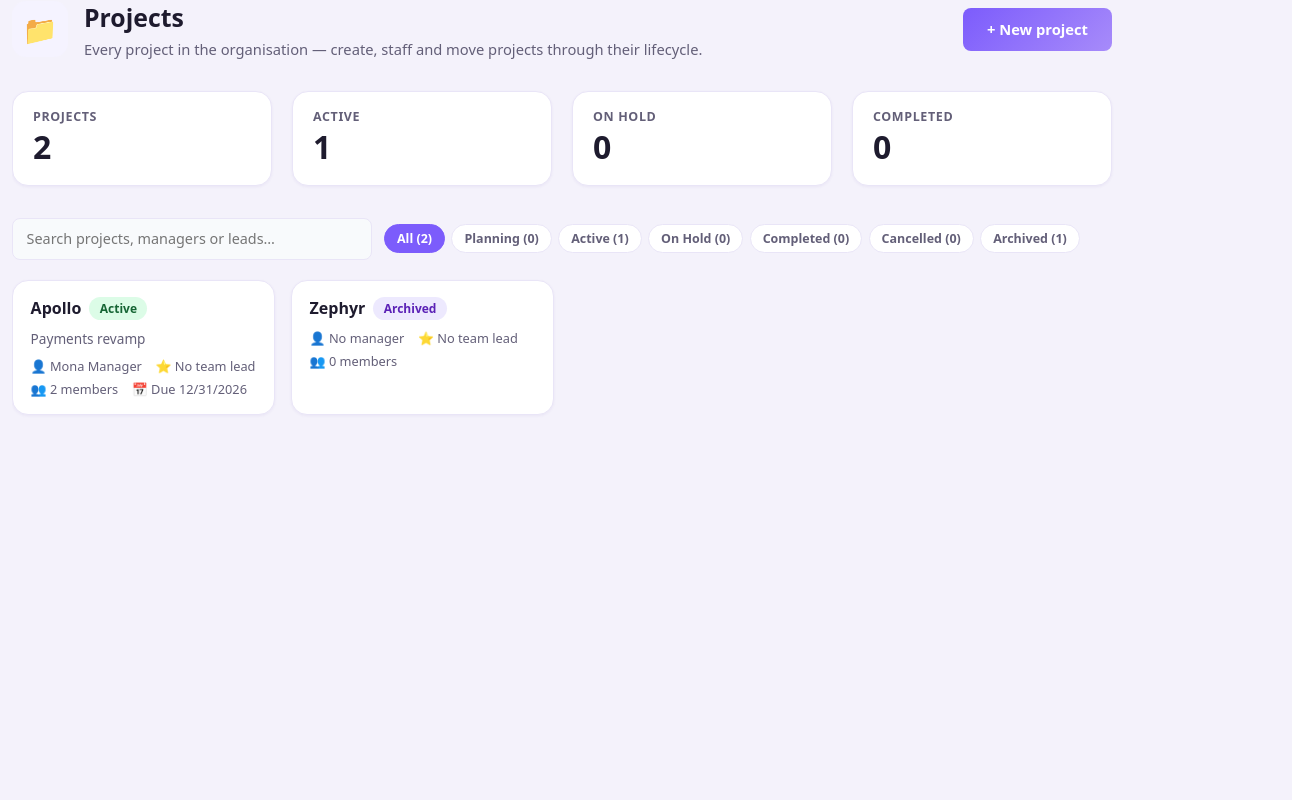
Test: admin sees create, assignment, lifecycle and delete controls
Expected: the button "+ New project" is shown, [963,8,1112,51]
What coordinates should you click on to do the following:
click the button that starts with "Apollo"
I would click on:
 (144, 347)
Its box is [12,280,275,415].
(page scrolled)
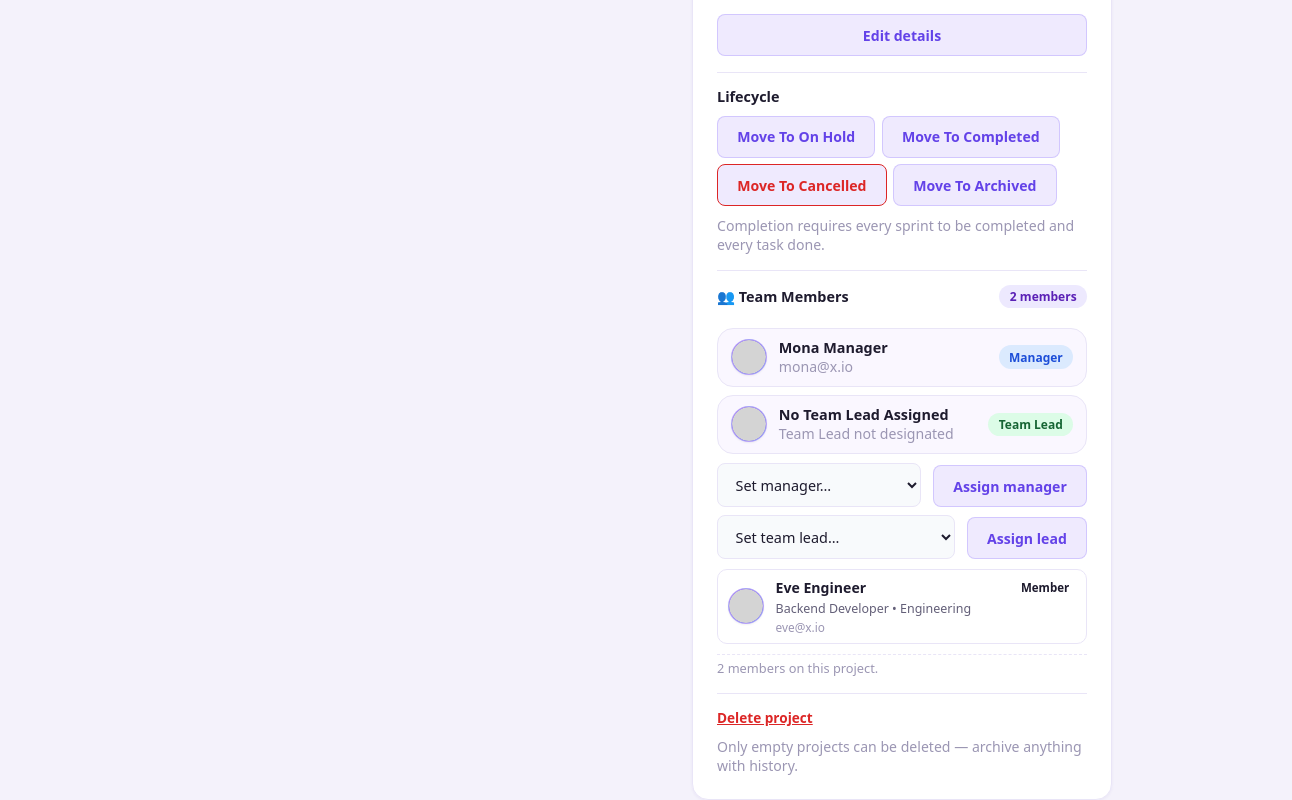
Result: the button "Edit details" is shown at [717,14,1087,56]
Result: the button "Move to on hold" is shown at [717,116,875,158]
Result: the button "Assign manager" is shown at [933,466,1087,507]
